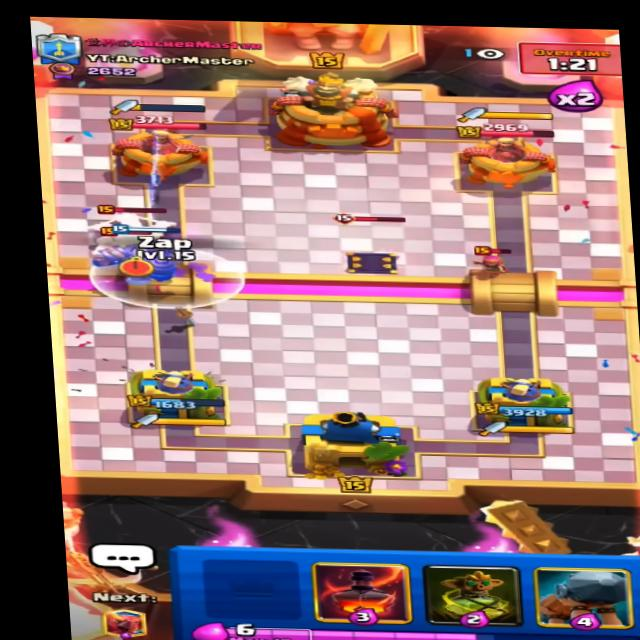Archer: (470, 248, 508, 274)
Evoteslahidden: (322, 214, 416, 279)
Xbow: (85, 203, 177, 255)
